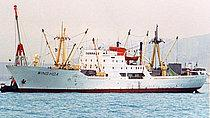Ship: (5, 3, 210, 98)
